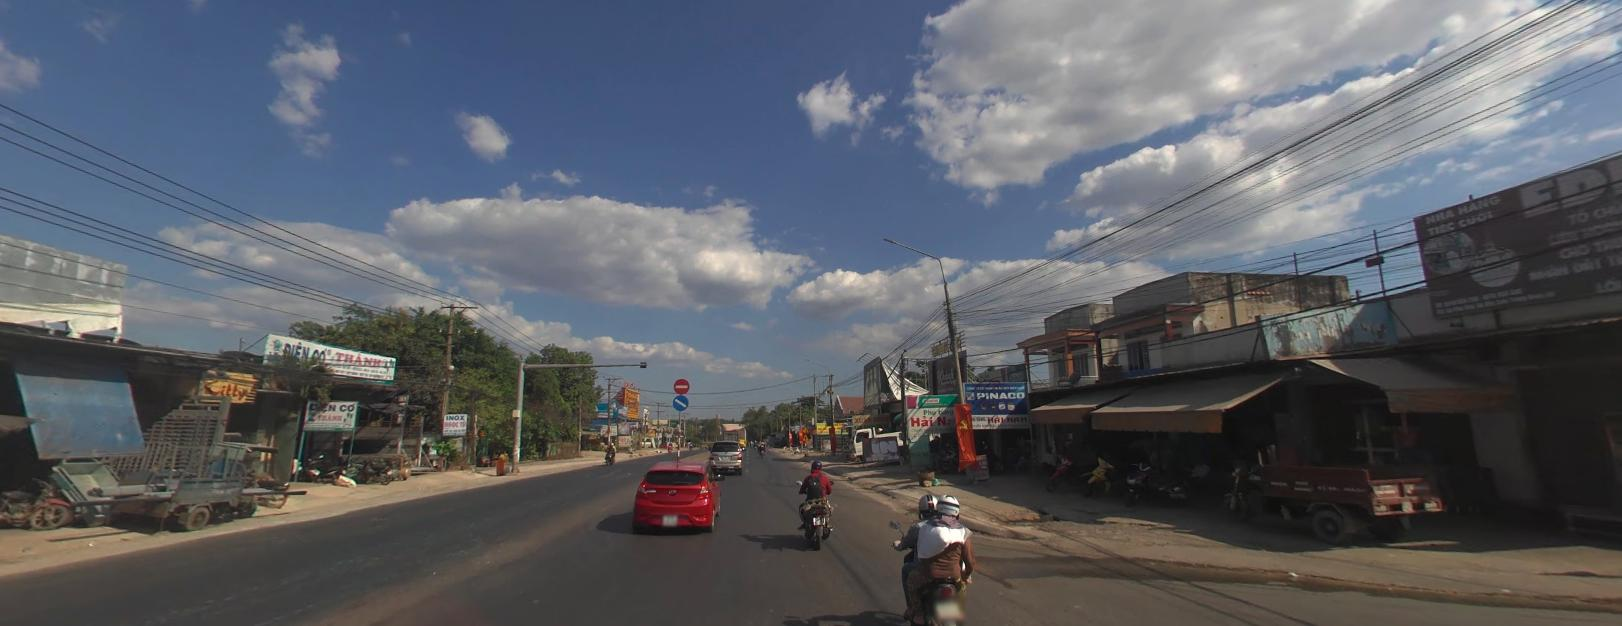Cam nguoc chieu: (673, 377, 689, 392)
Hieu lenh: (672, 394, 688, 409)
Nguy hiem: (801, 424, 809, 433), (801, 433, 808, 440)
